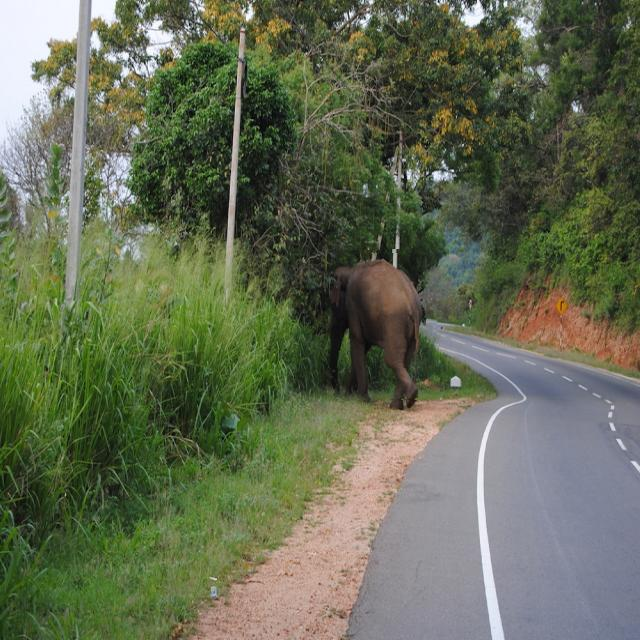elephant: (328, 250, 439, 400)
